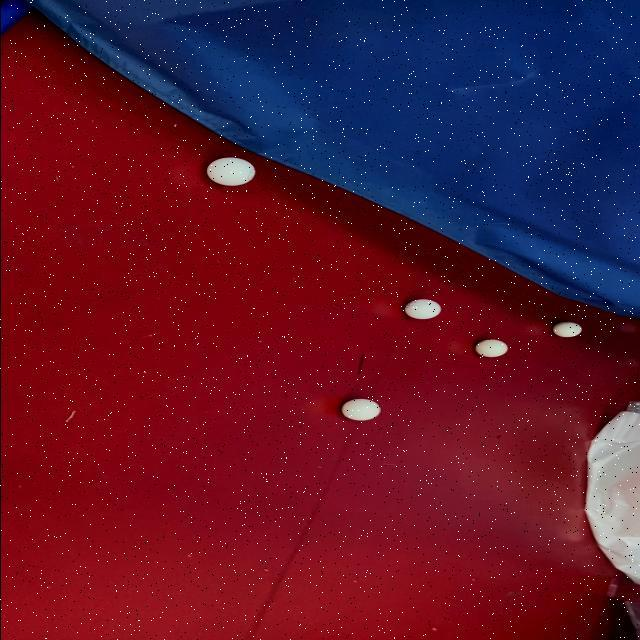ping-pong-ball: (202, 156, 258, 188), (338, 397, 382, 421), (402, 298, 442, 320), (472, 338, 508, 358), (551, 321, 583, 338)
